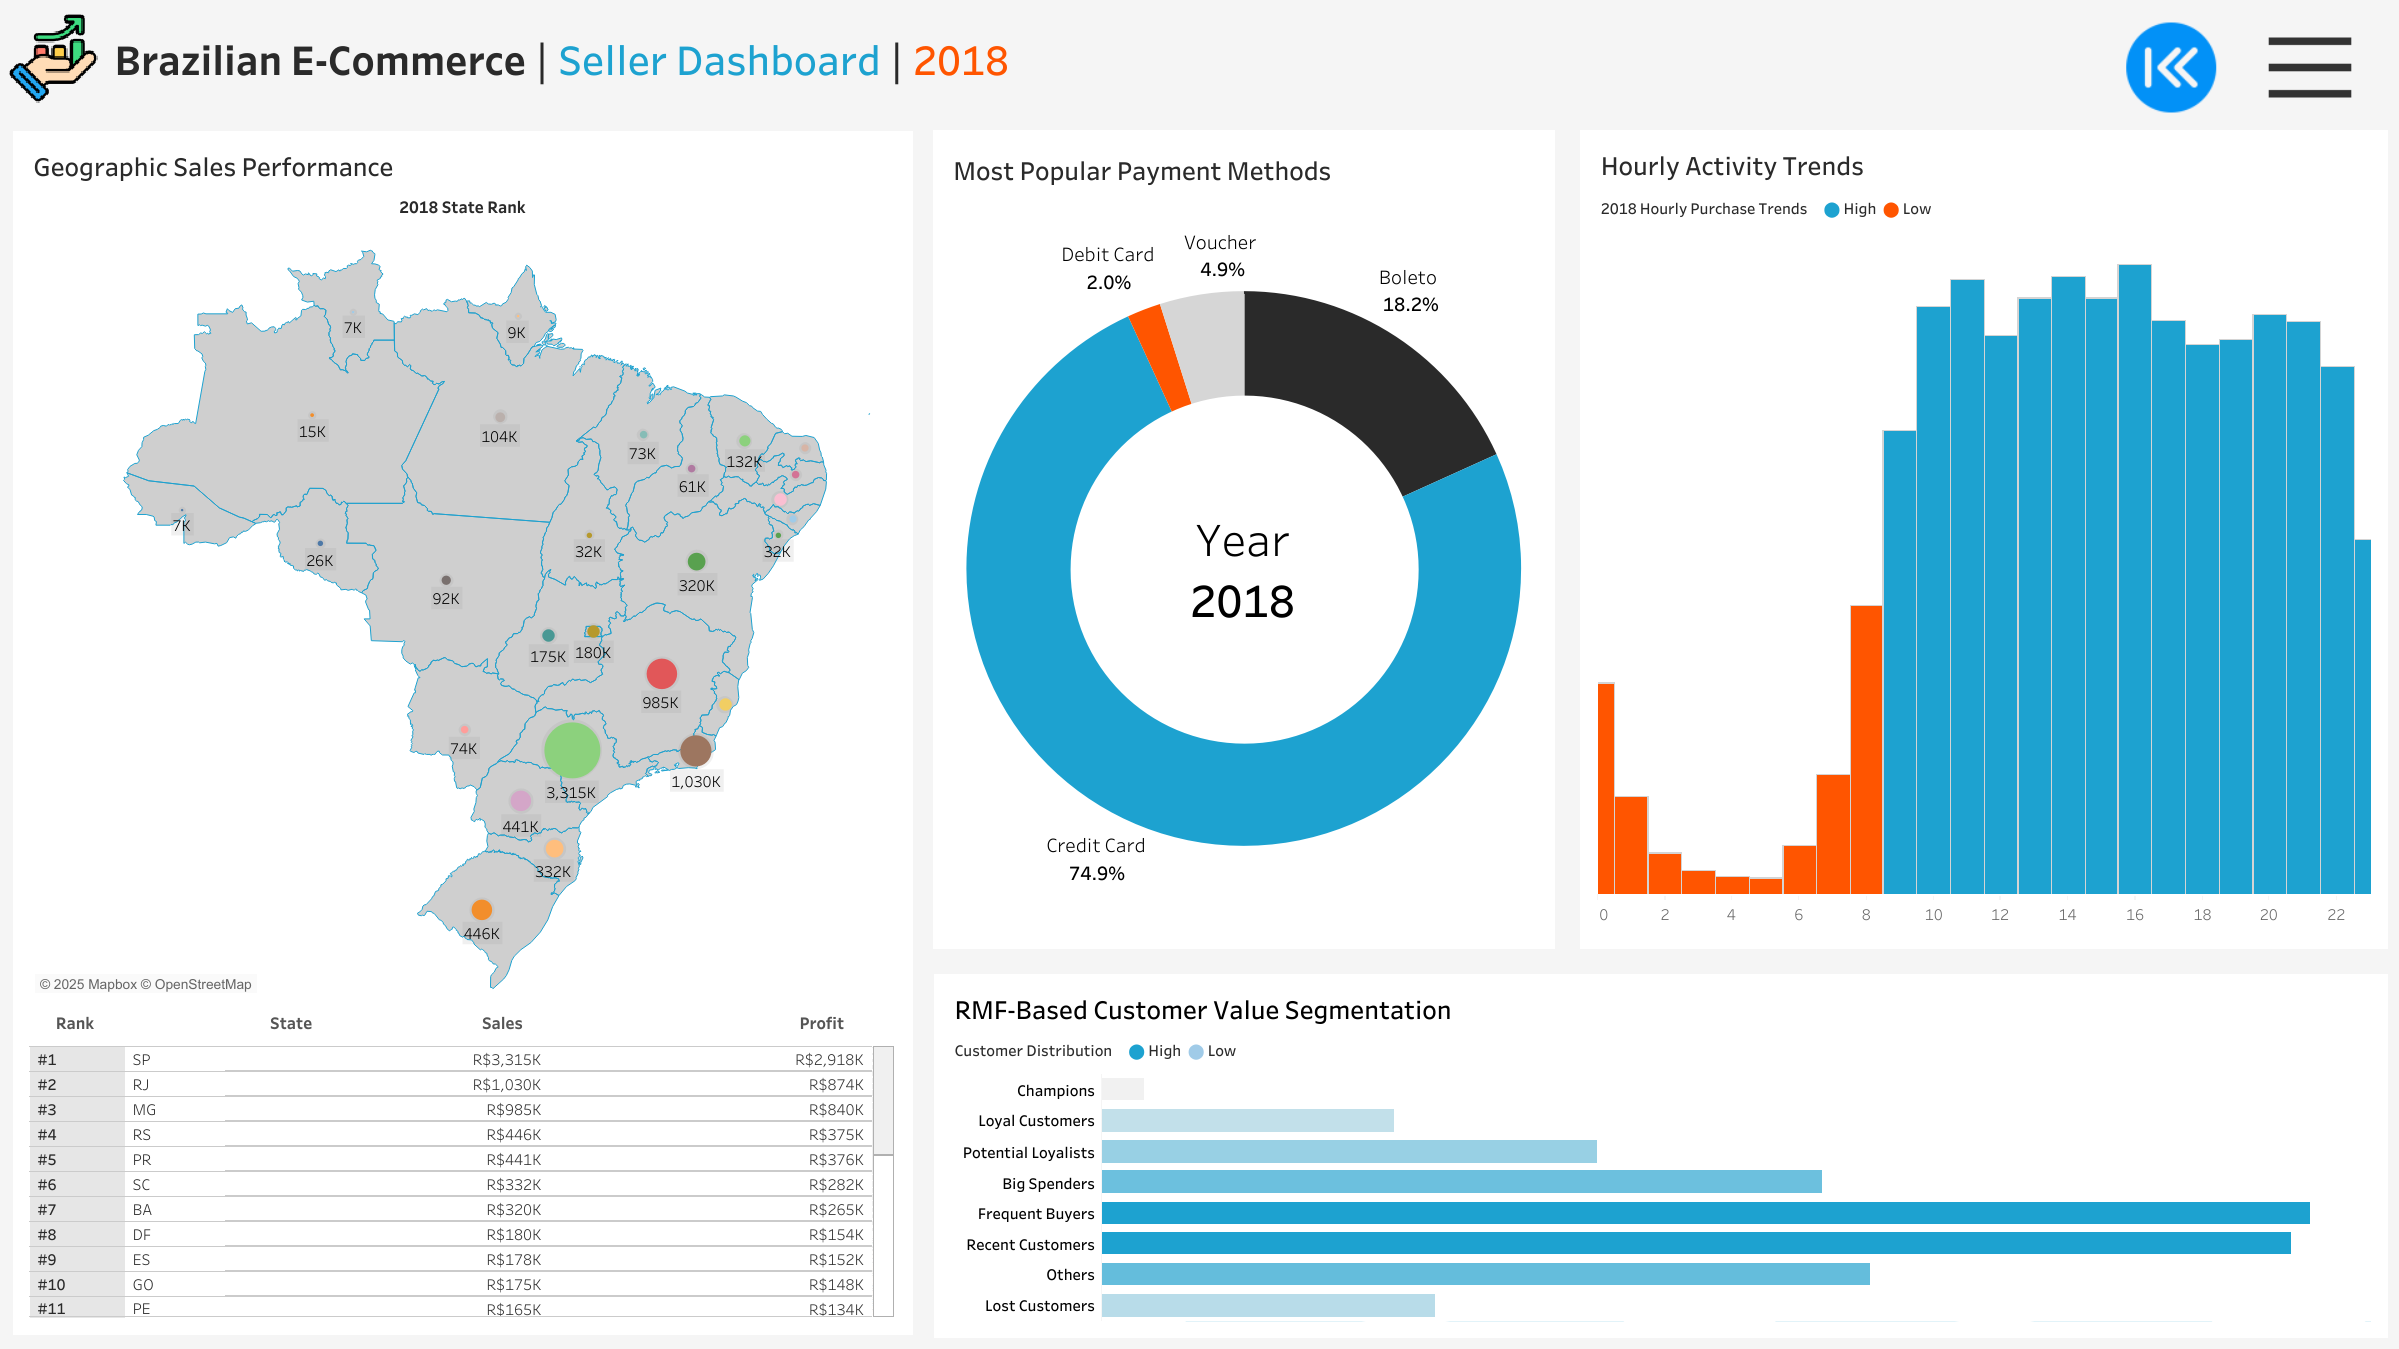

Layout of this report page (visuals, bound fields, positions):
{"tool":"tableau","page":{"name":"Dashboard 2","canvas":[1920,1080],"ordinal":1},"visuals":[{"type":"image","param":"Image/7298311.png","box":[0,0,85,94]},{"type":"text","box":[85,0,1611,94]},{"type":"blank","box":[1558,10,351,101]},{"type":"dashboard-object","box":[1682,14,111,80]},{"type":"dashboard-object","box":[1793,14,111,80]},{"type":"text","box":[1558,111,351,40]},{"type":"text","box":[756,114,478,43]},{"type":"text","box":[1274,114,626,43]},{"type":"text","box":[20,115,700,43]},{"type":"parameter","param":"[Parameters].[Parameter 1]","box":[1558,151,351,56]},{"type":"text","box":[1274,157,626,32]},{"type":"text","box":[20,158,700,31]},{"type":"worksheet","title":"Best Payment Method","mark":"Pie","cols":["Calculation_1666894879462551553","Calculation_1666894879462551553"],"box":[756,161.5,478,587.5]},{"type":"worksheet","title":"Map Sales/Profit","mark":"Automatic","box":[20,189,700,623]},{"type":"worksheet","title":"Trend Time","mark":"Bar","rows":["Calculation_1666894879480913924"],"cols":["order_hour"],"box":[1274,189,626,560]},{"type":"filter","title":"Map Sales/Profit","param":"[federated.0zxmdlh0efchbr116iuzq0n2b778].[none:geolocation_state:nk]","box":[1558,207,351,680]},{"type":"text","box":[756.7,789,1143.2,43]},{"type":"text","box":[20,812,80,32]},{"type":"text","box":[100,812,266,32]},{"type":"text","box":[366,812,72,32]},{"type":"text","box":[595,812,125,32]},{"type":"text","box":[756.7,832,1143.2,30]},{"type":"worksheet","title":"State Rank","mark":"Automatic","rows":["Calculation_1612288734435913729","geolocation_state"],"box":[20,844,700,214]},{"type":"worksheet","title":"RMF Analysis","mark":"Bar","rows":["Customer_Segment"],"cols":["total_customers"],"box":[756.7,862,1143.2,197.9]}]}

Visuals, with their boxes in screenshot pixels (x1, y1, x2, y2), scaled from the page's 1920x1080 canvas onto the 2399x1349 screenshot:
image: select_region(0, 0, 106, 117)
text: select_region(106, 0, 2119, 117)
blank: select_region(1947, 12, 2385, 139)
dashboard-object: select_region(2102, 17, 2240, 117)
dashboard-object: select_region(2240, 17, 2379, 117)
text: select_region(1947, 139, 2385, 189)
text: select_region(945, 142, 1542, 196)
text: select_region(1592, 142, 2374, 196)
text: select_region(25, 144, 900, 197)
parameter: select_region(1947, 189, 2385, 259)
text: select_region(1592, 196, 2374, 236)
text: select_region(25, 197, 900, 236)
"Best Payment Method" worksheet (Pie marks): select_region(945, 202, 1542, 936)
"Map Sales/Profit" worksheet: select_region(25, 236, 900, 1014)
"Trend Time" worksheet (Bar marks): select_region(1592, 236, 2374, 936)
"Map Sales/Profit" filter: select_region(1947, 259, 2385, 1108)
text: select_region(945, 986, 2374, 1039)
text: select_region(25, 1014, 125, 1054)
text: select_region(125, 1014, 457, 1054)
text: select_region(457, 1014, 547, 1054)
text: select_region(743, 1014, 900, 1054)
text: select_region(945, 1039, 2374, 1077)
"State Rank" worksheet: select_region(25, 1054, 900, 1322)
"RMF Analysis" worksheet (Bar marks): select_region(945, 1077, 2374, 1324)
